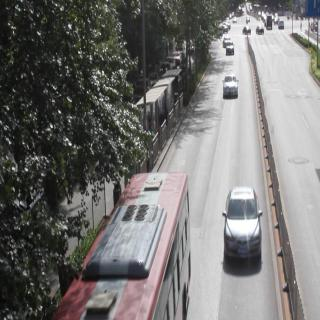BigCar: (50, 155, 198, 320)
Car: (216, 173, 267, 268), (218, 65, 242, 107), (223, 40, 236, 65), (254, 20, 266, 40), (242, 22, 253, 40), (276, 17, 284, 31)
